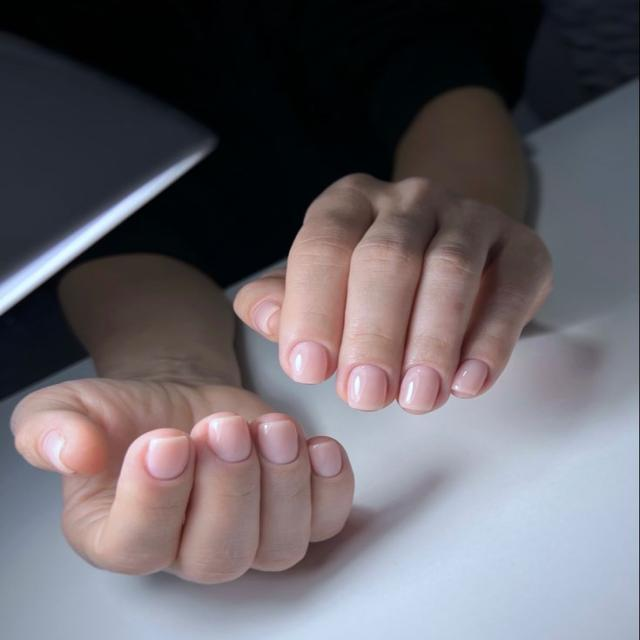Fingernail: (209, 417, 252, 463), (146, 437, 190, 480), (399, 366, 441, 411), (347, 364, 387, 411), (258, 420, 298, 464), (290, 342, 327, 385), (43, 430, 75, 474), (451, 360, 489, 396), (308, 441, 342, 477), (254, 302, 279, 338)
